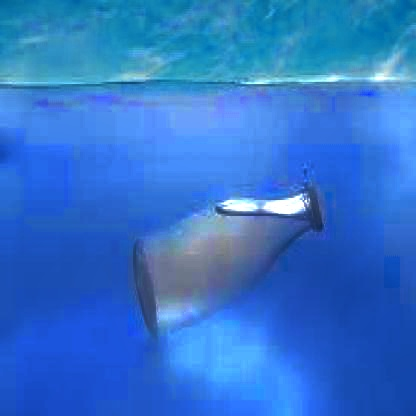gbottle: (126, 170, 328, 348)
